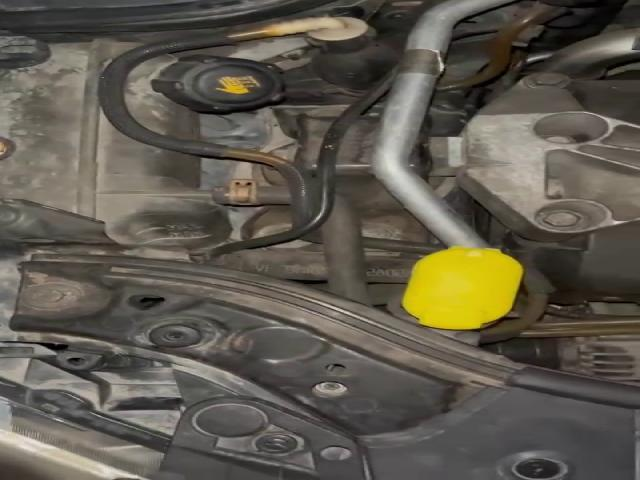antifreeze_tank: (0, 39, 234, 248), (128, 54, 283, 138)
